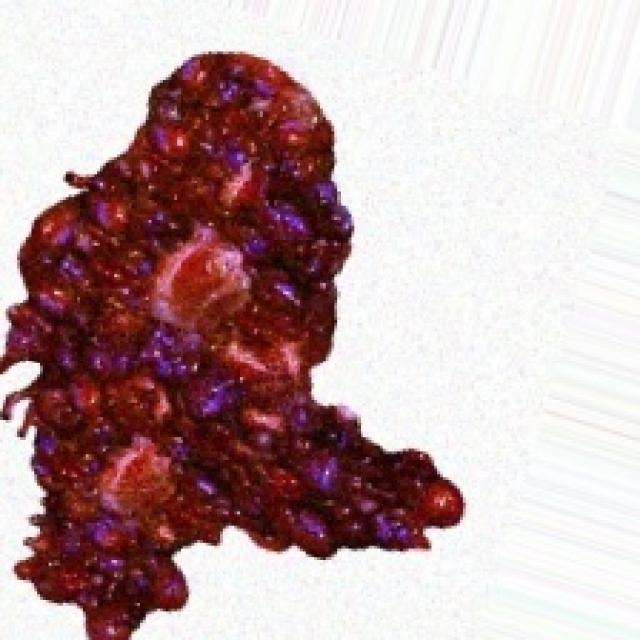Amoeba: (0, 46, 466, 637)
